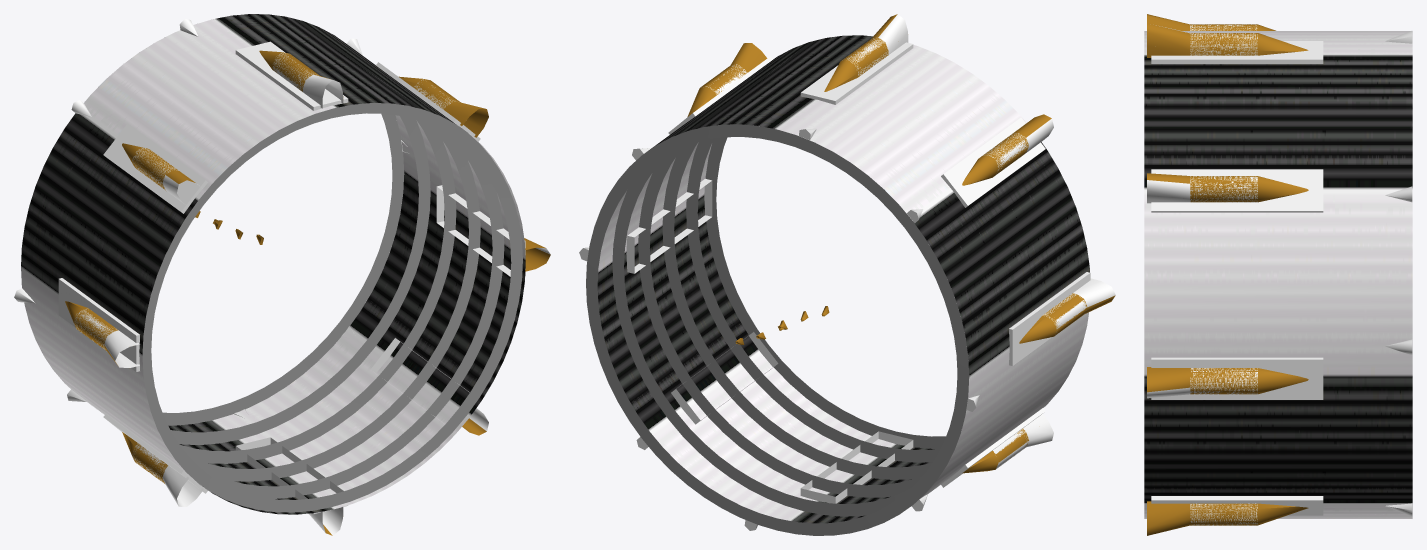
Rendered from sat5intstg.obj.
3 views of the same model, side by side, from view 1: azimuth 30°, elevation 25°; view 2: azimuth 150°, elevation 25°; view 3: azimuth 270°, elevation 25° (orthographic). The views are drawn at different scales.
Visible parts, largest first — view 1: group10, group36, group37, group27, group21, group8, group19, group6, group26, group34, group23, group5 (+6 smaller); view 2: group10, group36, group37, group27, group6, group21, group2, group19, group8, group5, group20, group22 (+7 smaller); view 3: group10, group30, group22, group4, group2, group7, group8, group19, group33, group28, group25, group6 (+2 smaller).
Boxes of the visible parts, x1,y1,x2,y2 form: group10: [21, 14, 525, 514]; group36: [142, 103, 522, 512]; group37: [143, 103, 522, 512]; group27: [103, 123, 208, 213]; group21: [58, 278, 139, 371]; group8: [399, 76, 488, 137]; group19: [235, 41, 348, 110]; group6: [122, 143, 195, 190]; group26: [74, 308, 139, 367]; group34: [132, 443, 203, 506]; group23: [272, 53, 343, 108]; group5: [65, 301, 118, 364]; group10: [597, 35, 1089, 523]; group36: [586, 124, 969, 535]; group37: [586, 124, 968, 535]; group27: [941, 117, 1045, 207]; group6: [962, 114, 1051, 185]; group21: [1009, 272, 1090, 365]; group2: [824, 14, 897, 91]; group19: [800, 42, 913, 104]; group8: [687, 43, 767, 116]; group5: [1019, 293, 1115, 343]; group20: [800, 431, 913, 503]; group22: [626, 178, 712, 273]; group10: [1144, 31, 1412, 518]; group30: [1151, 169, 1323, 212]; group22: [1151, 357, 1323, 399]; group4: [1147, 367, 1308, 394]; group2: [1147, 23, 1308, 57]; group7: [1147, 501, 1308, 535]; group8: [1147, 173, 1308, 202]; group19: [1151, 41, 1323, 63]; group33: [1147, 176, 1257, 203]; group28: [1151, 496, 1323, 515]; group25: [1147, 368, 1257, 398]; group6: [1147, 14, 1275, 30].
Bounding box in the file's own units: 11.48 × 11.48 × 5.55.
4 materials, 1 textured.
